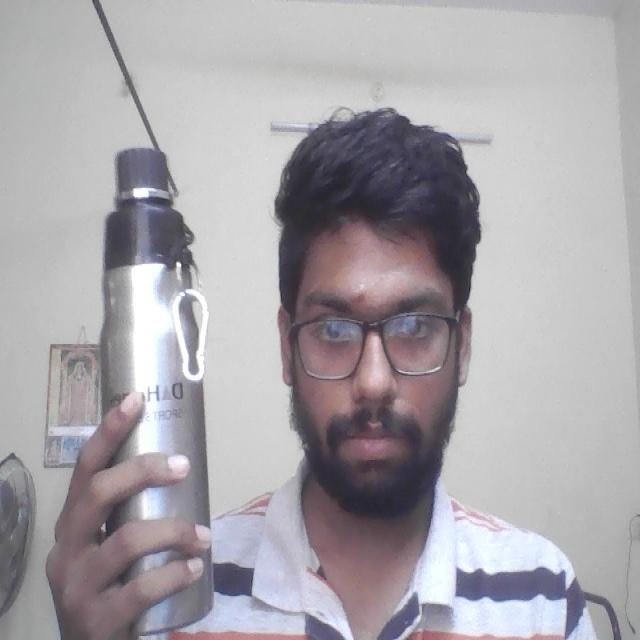Drinking: (95, 141, 211, 627)
